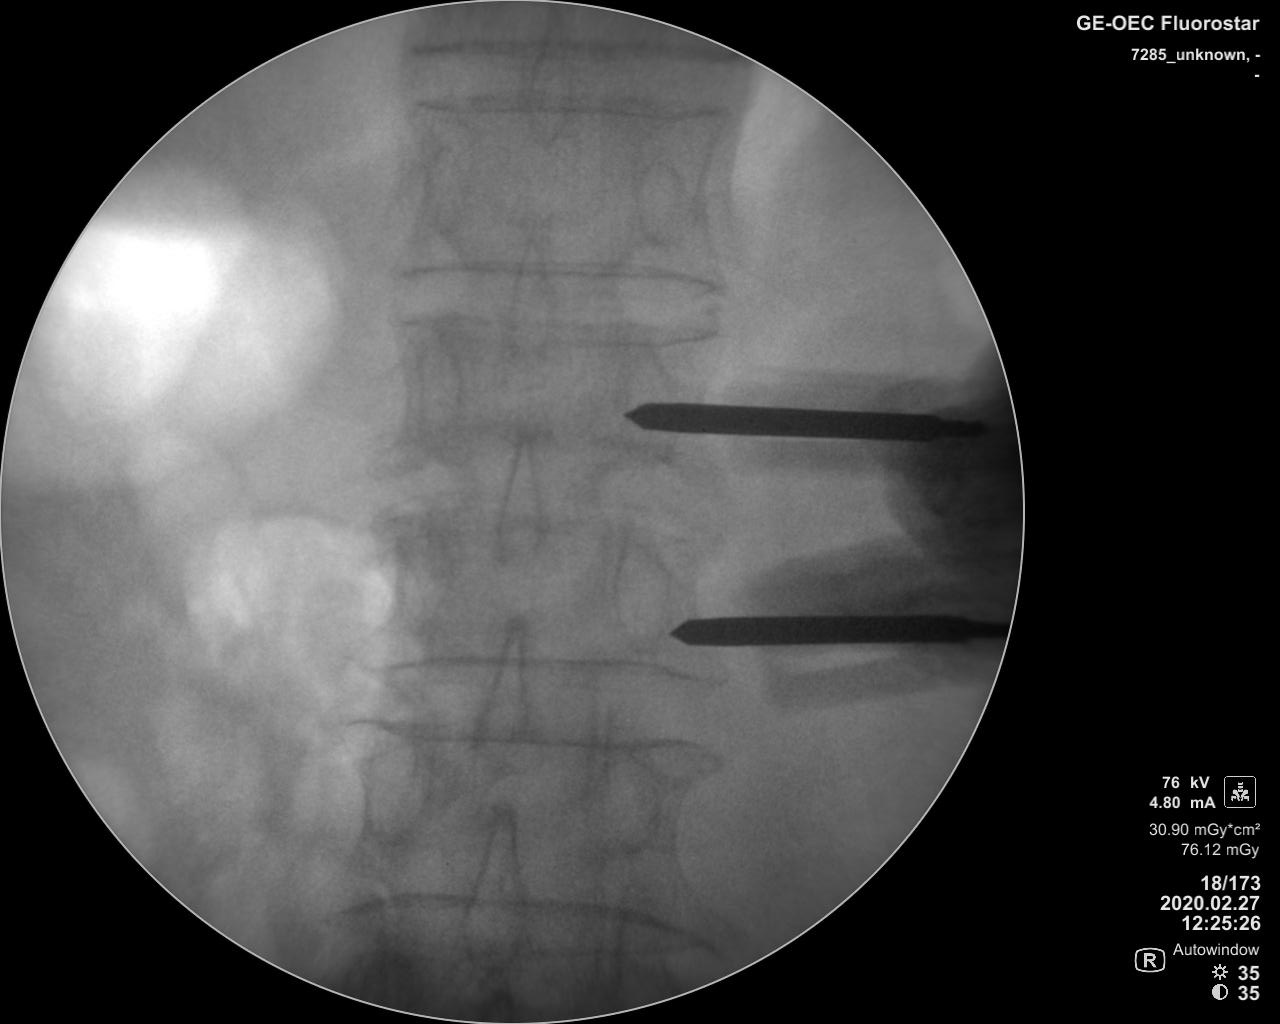eyes: (586, 752, 662, 855), (362, 735, 429, 844), (620, 352, 681, 463), (612, 542, 668, 654), (630, 157, 691, 250), (410, 328, 463, 430), (396, 542, 453, 630), (419, 147, 474, 238)
line: (328, 887, 720, 936), (379, 315, 726, 352), (357, 726, 730, 761), (368, 654, 721, 690), (394, 258, 730, 292), (408, 94, 734, 124), (409, 41, 727, 69)
nose: (460, 800, 528, 979), (470, 611, 539, 772), (492, 421, 550, 576), (501, 215, 558, 357), (523, 11, 572, 152)
